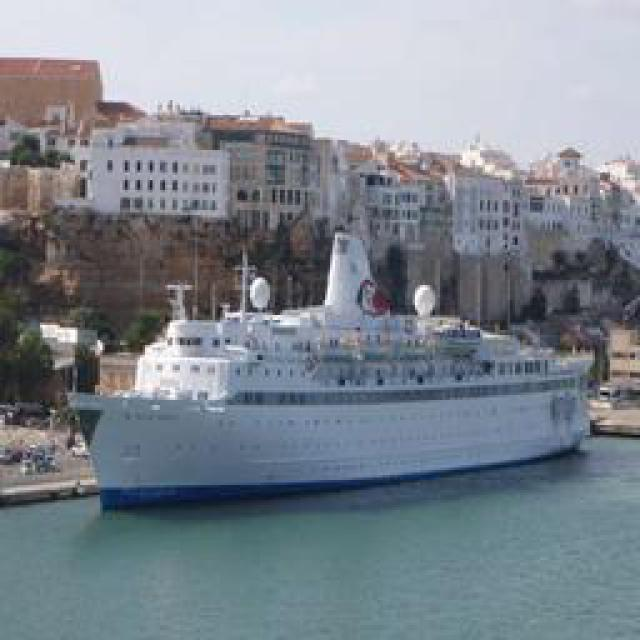Ship: (76, 248, 591, 506)
